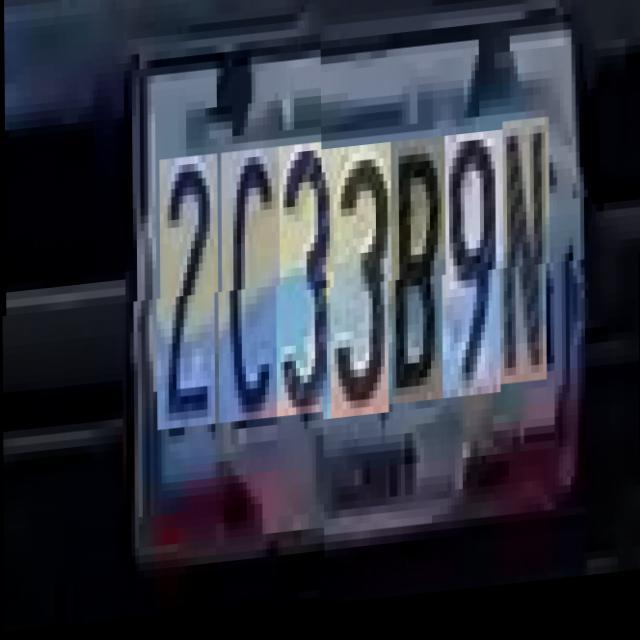2: (159, 166, 219, 441)
3: (332, 151, 392, 426), (278, 156, 334, 431)
9: (444, 141, 504, 408)
B: (391, 146, 446, 413)
C: (220, 161, 280, 436)
N: (502, 130, 550, 396)
